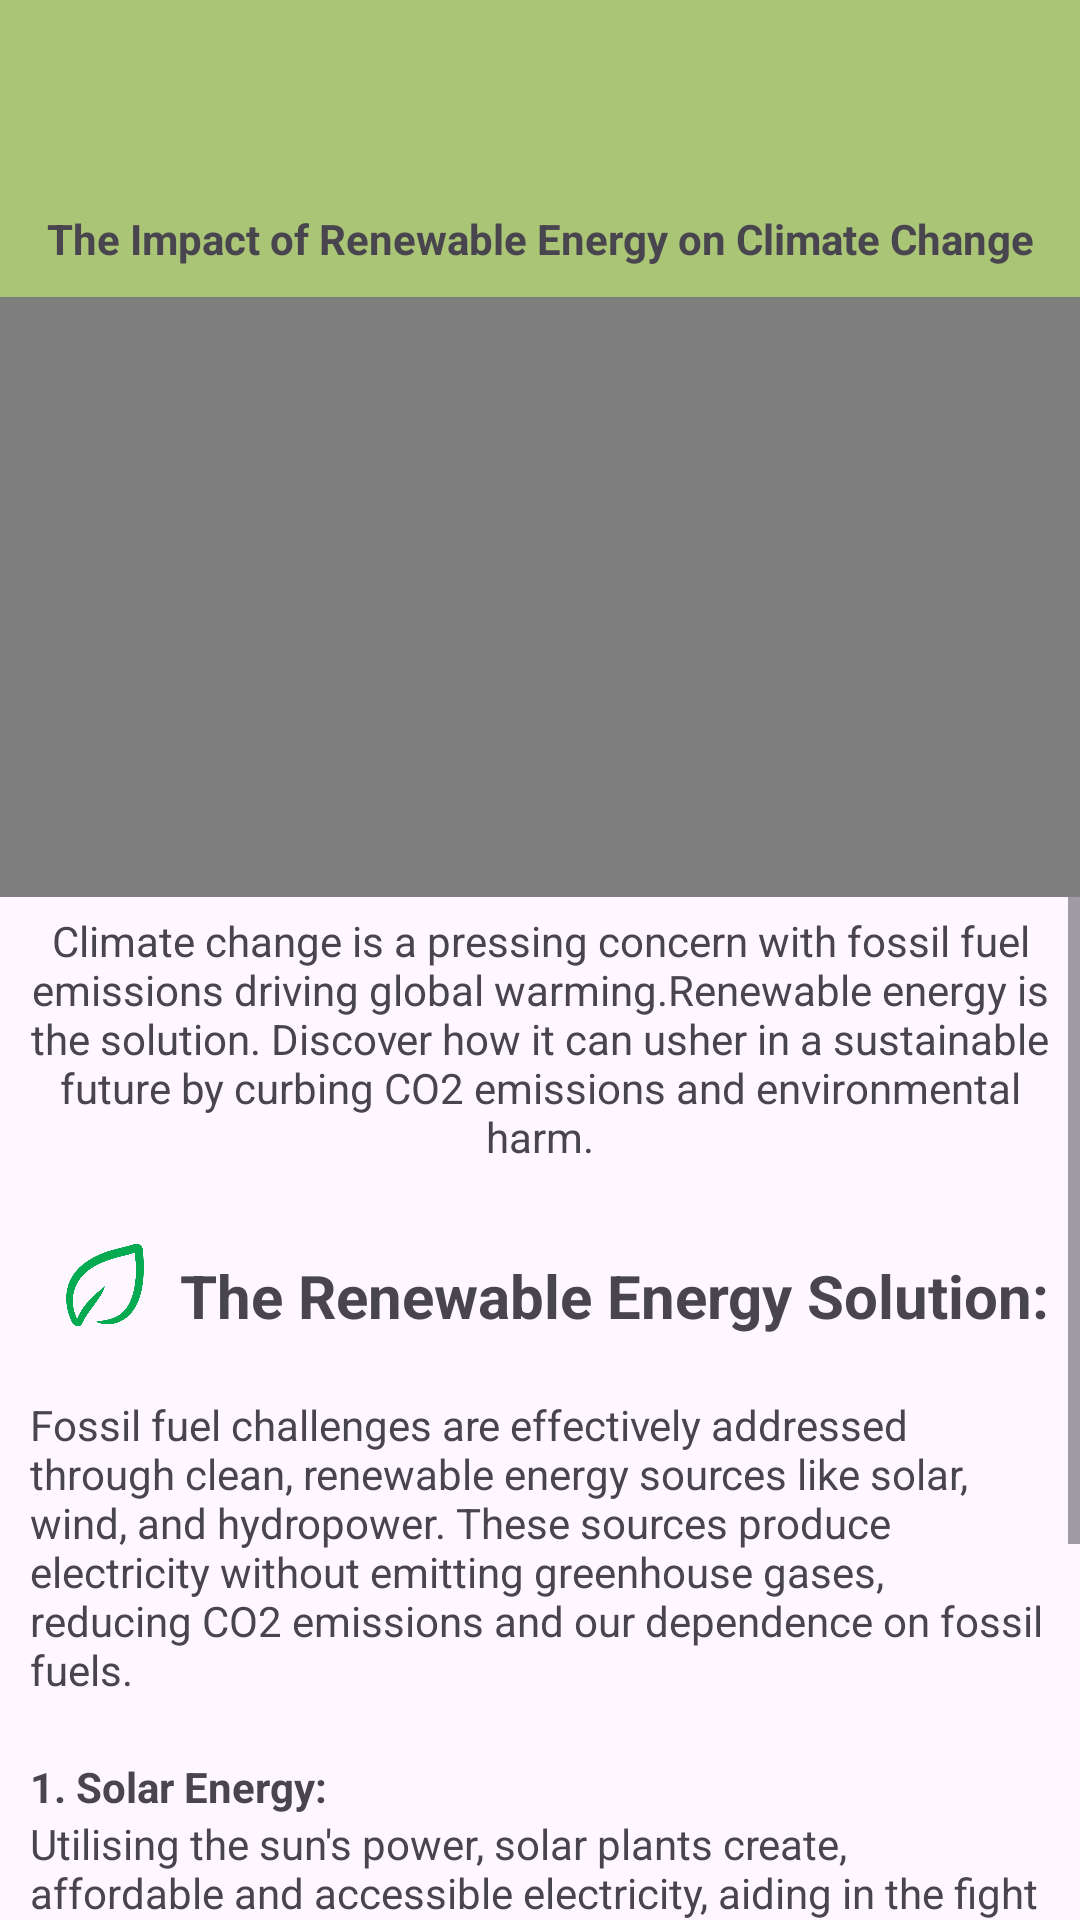

Point at icon controls on the screen. Image size 1080*1920, points as [x,y].
leaf: [105,1285]
